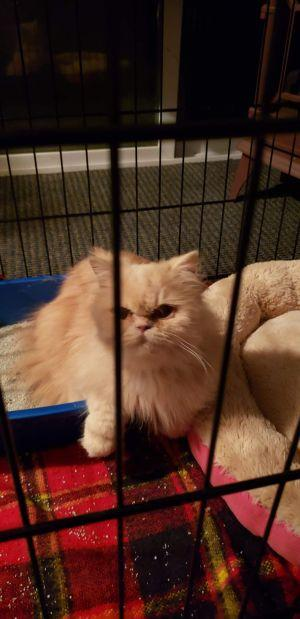persian: (86, 244, 215, 374)
